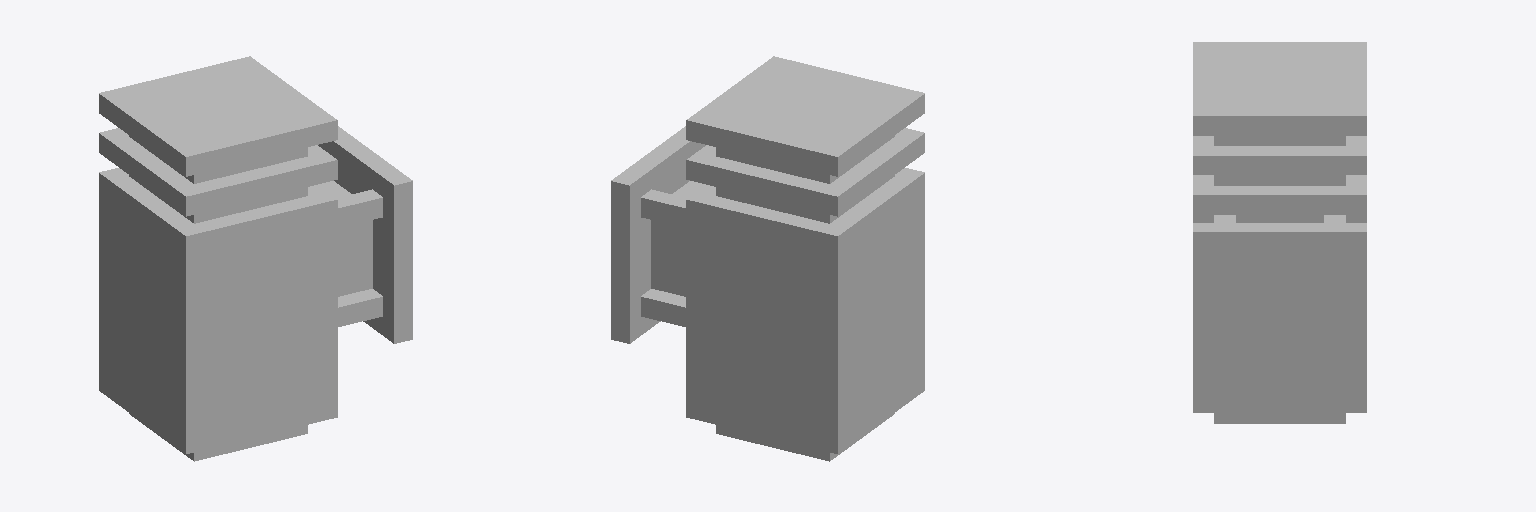
The model's file is electricPump_3.obj.
3 renders of one model, left to right at view 1: azimuth 30°, elevation 25°; view 2: azimuth 150°, elevation 25°; view 3: azimuth 270°, elevation 25°, orthographic.
Visible parts, largest first — view 1: pumpCasing, pumpPortTop, powerPort, pumpRingTop, pumpBase, powerConnector, powerConnectorFrame1, powerConnectorFrame4; view 2: pumpCasing, pumpPortTop, powerPort, pumpRingTop, pumpBase, powerConnector, powerConnectorFrame2, powerConnectorFrame3; view 3: powerPort, pumpPortTop, pumpCasing, pumpRingTop, pumpBase.
Boxes of the visible parts, x1=… form: pumpCasing: x1=99, y1=168, x2=337, y2=453; pumpPortTop: x1=99, y1=56, x2=337, y2=176; powerPort: x1=318, y1=126, x2=412, y2=343; pumpRingTop: x1=99, y1=128, x2=337, y2=216; pumpBase: x1=129, y1=136, x2=307, y2=461; powerConnector: x1=318, y1=181, x2=372, y2=296; powerConnectorFrame1: x1=336, y1=189, x2=382, y2=227; powerConnectorFrame4: x1=338, y1=289, x2=382, y2=326; pumpCasing: x1=686, y1=168, x2=924, y2=453; pumpPortTop: x1=686, y1=56, x2=924, y2=176; powerPort: x1=611, y1=126, x2=705, y2=343; pumpRingTop: x1=686, y1=128, x2=924, y2=216; pumpBase: x1=716, y1=136, x2=894, y2=461; powerConnector: x1=651, y1=181, x2=705, y2=296; powerConnectorFrame2: x1=641, y1=189, x2=687, y2=227; powerConnectorFrame3: x1=641, y1=289, x2=685, y2=326; powerPort: x1=1193, y1=223, x2=1366, y2=390; pumpPortTop: x1=1193, y1=42, x2=1366, y2=135; pumpCasing: x1=1193, y1=175, x2=1366, y2=412; pumpRingTop: x1=1193, y1=136, x2=1366, y2=174; pumpBase: x1=1214, y1=136, x2=1345, y2=423.
Bounding box in the file's own units: 0.75 × 1 × 0.5.